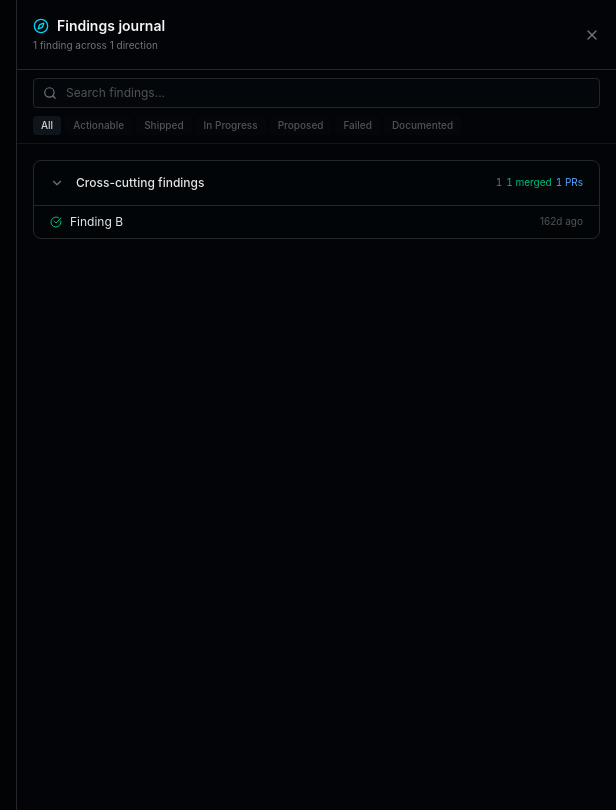
Test: ResearchBrowser evidence panel › renders a request_changes verdict as a humanized blocking pill
Click the text "Finding B".
click(96, 221)  # box [70, 214, 123, 228]
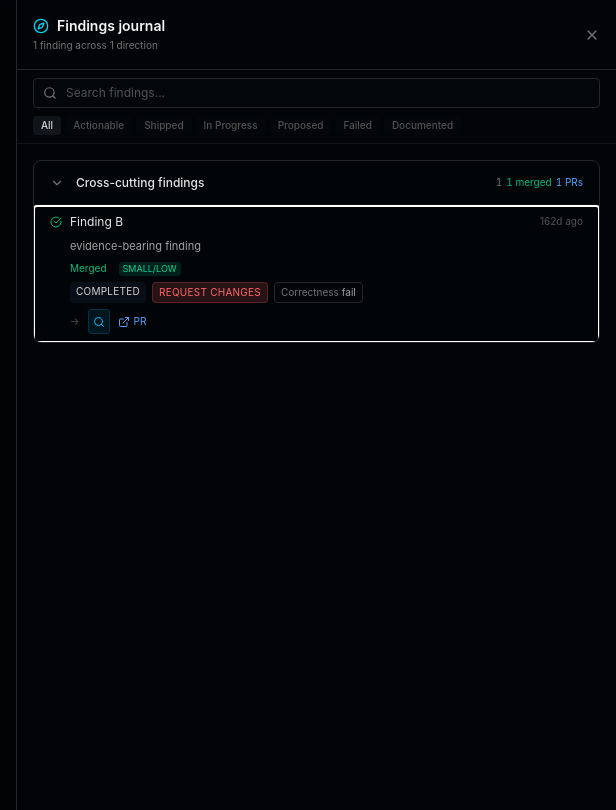
Expected: the text "Request Changes" is shown, [152, 282, 268, 303]
